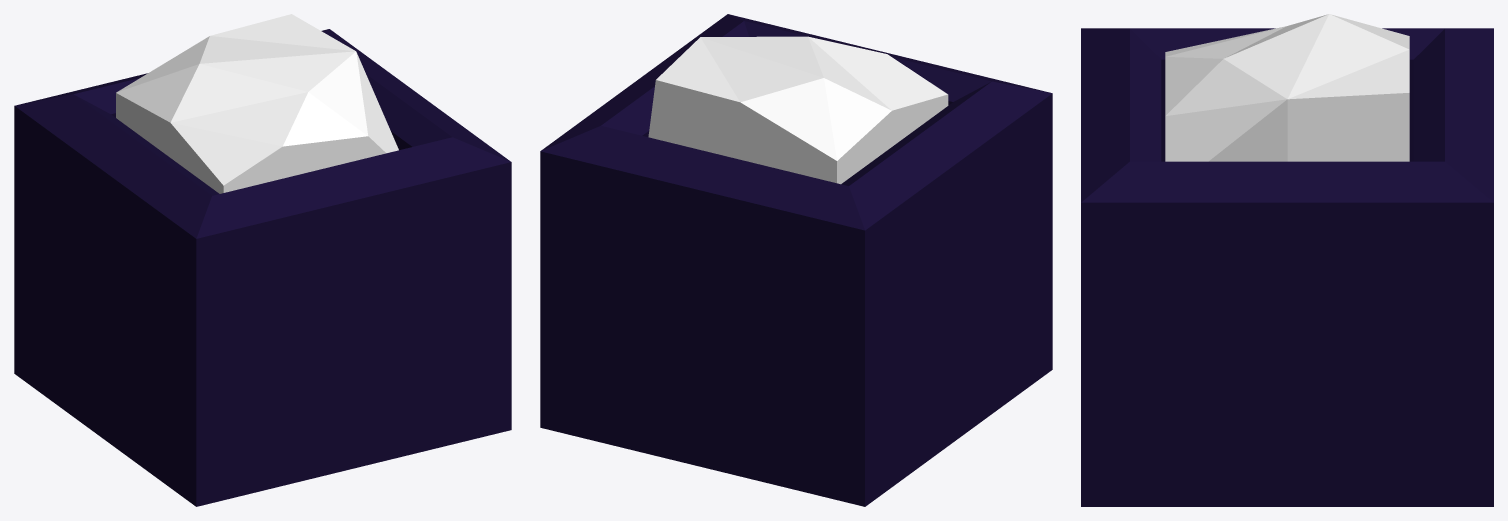
Rendered from glowy_box_6.gltf.
The picture shows the model from 3 angles, left to right: view 1: azimuth 30°, elevation 25°; view 2: azimuth 150°, elevation 25°; view 3: azimuth 270°, elevation 25°; orthographic projection. The views are drawn at different scales.
Parts seen in each view (by area): view 1: Cube; view 2: Cube; view 3: Cube.
Part boxes in pixels (left/top/right/bottom): Cube: left=14, top=14, right=511, bottom=506; Cube: left=540, top=14, right=1052, bottom=506; Cube: left=1081, top=14, right=1493, bottom=506.
Bounding box in the file's own units: 1 × 1.02 × 1.
